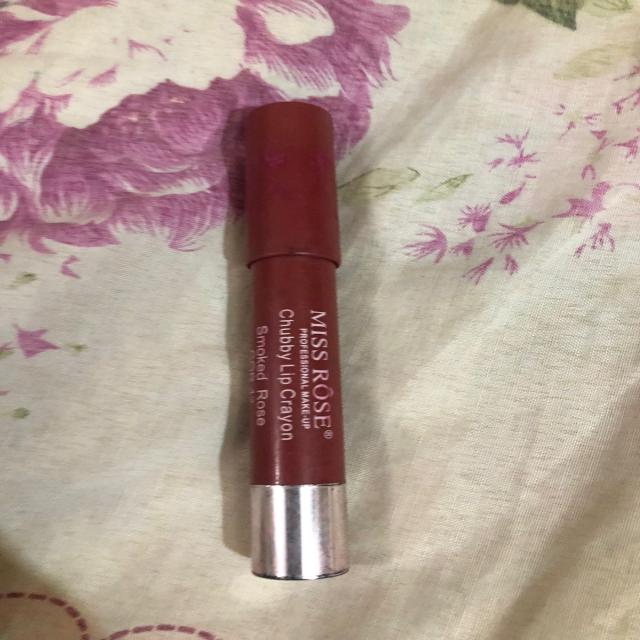lip stick: (190, 86, 429, 582)
